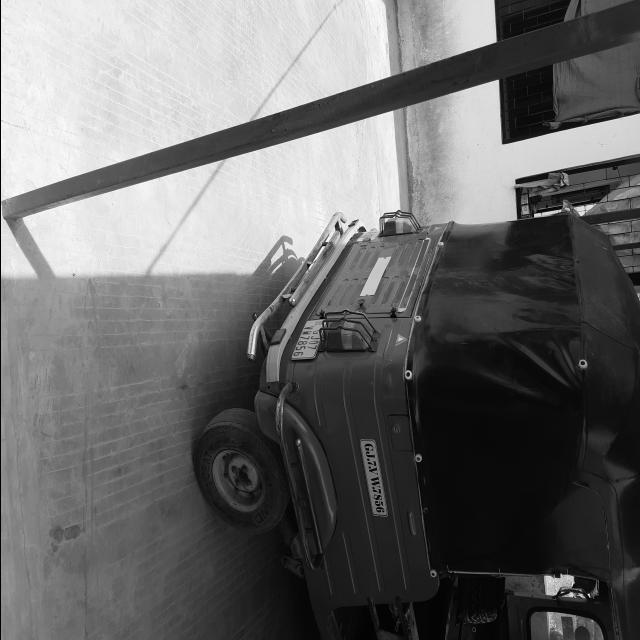Autorickshaw: (192, 191, 638, 640)
